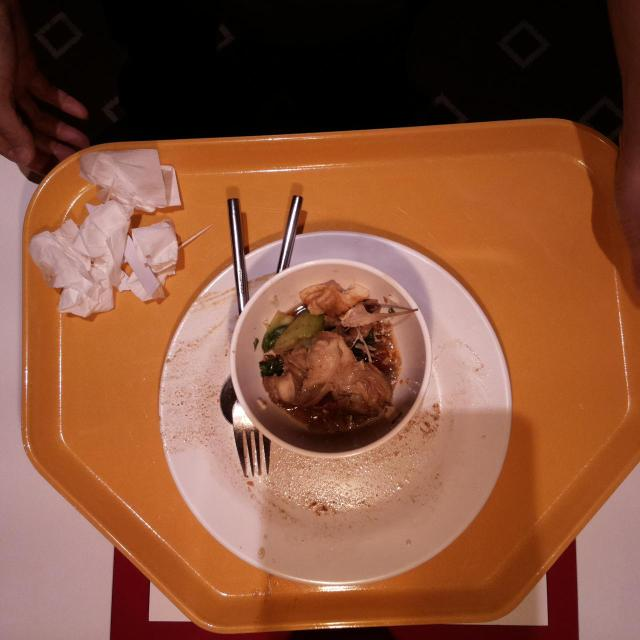Meat: (275, 330, 394, 418)
Vegetable: (259, 311, 318, 355)
